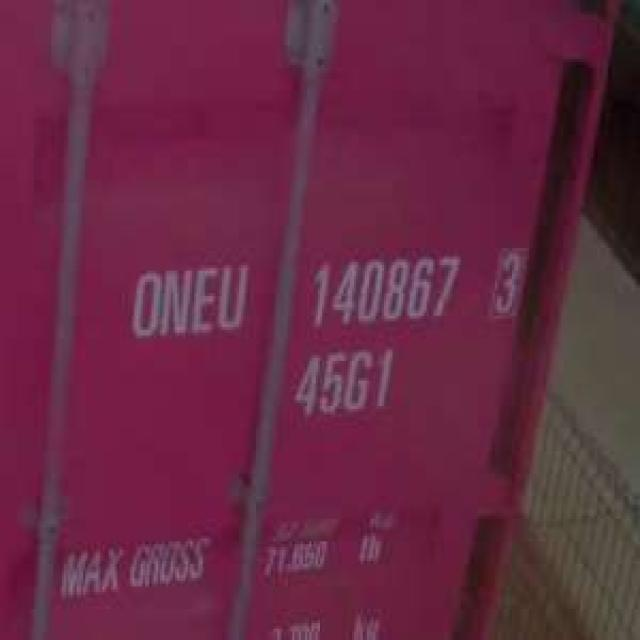dv: (487, 242, 525, 321)
owner: (121, 254, 252, 347)
serial: (301, 248, 463, 330)
size: (290, 341, 397, 420)
